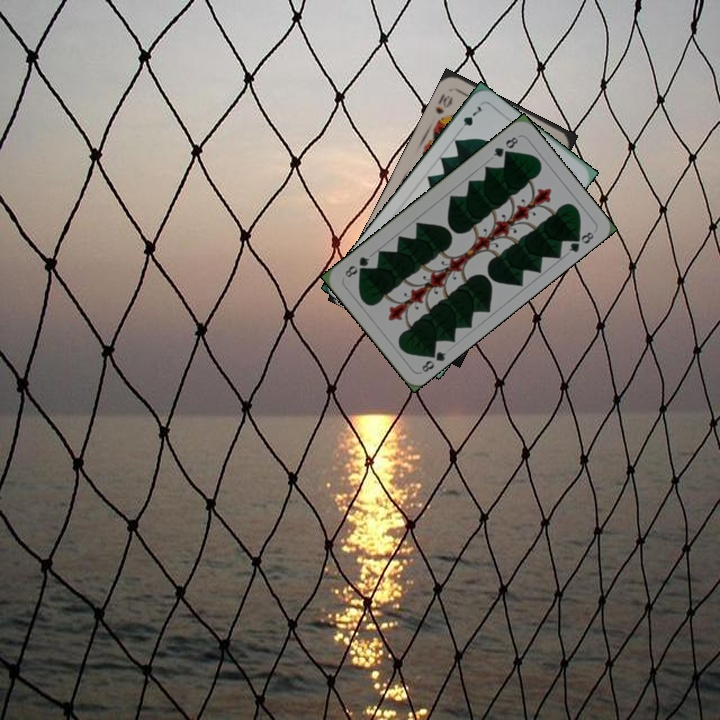G7: (454, 100, 484, 136)
G8: (417, 345, 449, 375), (489, 133, 521, 160)
S10: (431, 90, 455, 117)
